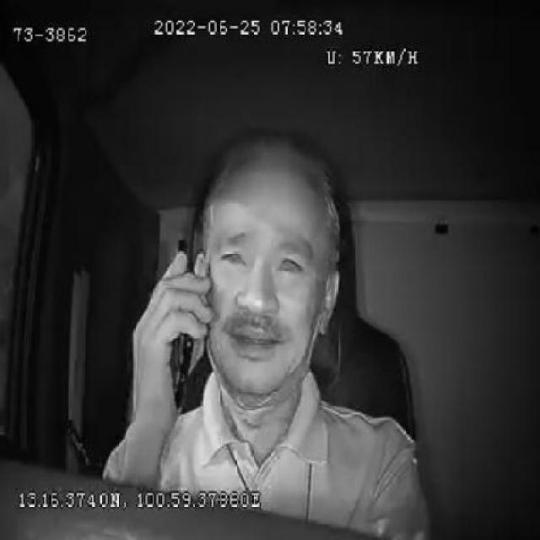phone: (166, 236, 197, 414)
